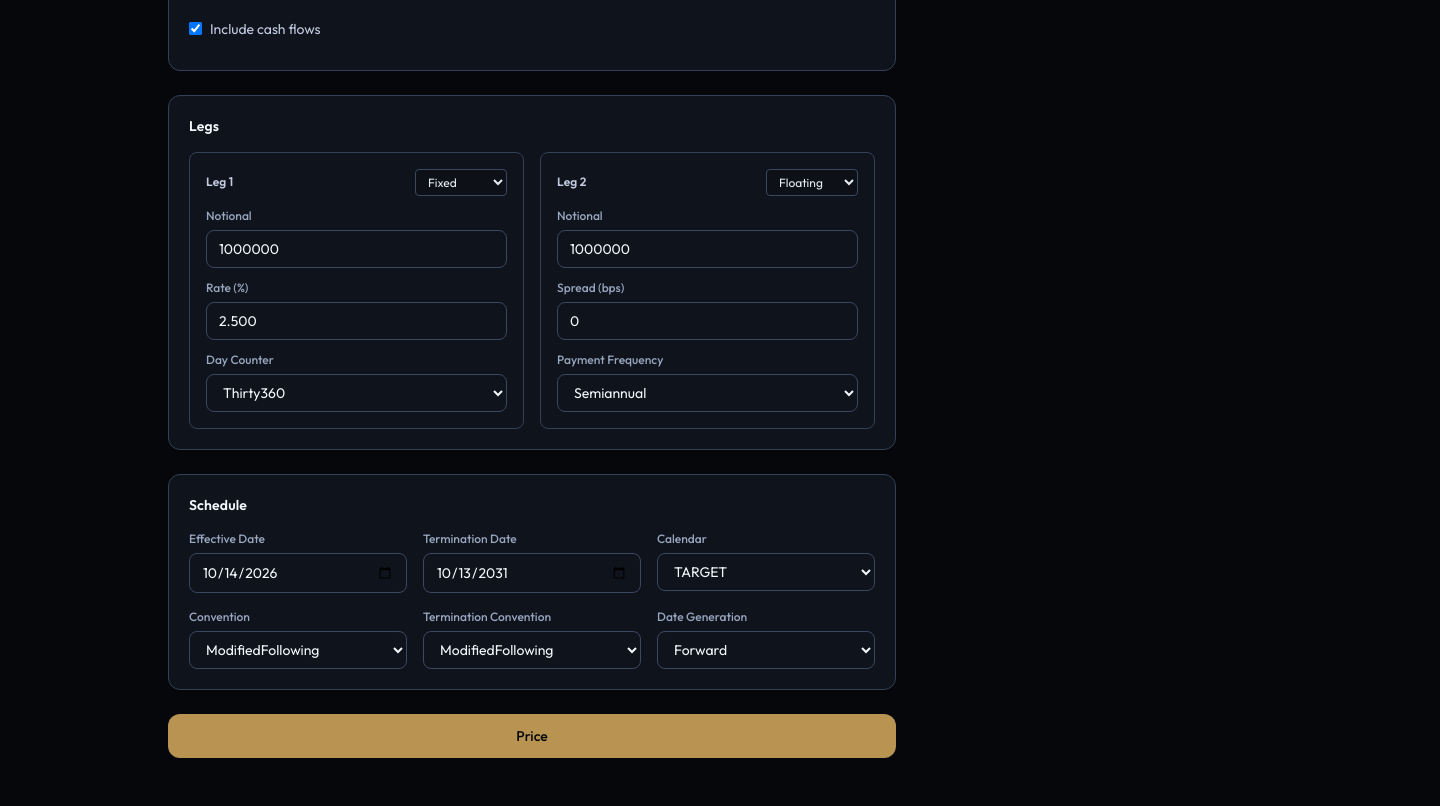
IrSwap component — C1–C4 (adapter cutover) › C2: not_found error — PricingErrorCard rendered; no NPV panel
(page scrolled)
Click the button "Price": (532, 736) [168,714,896,758]
(page scrolled)
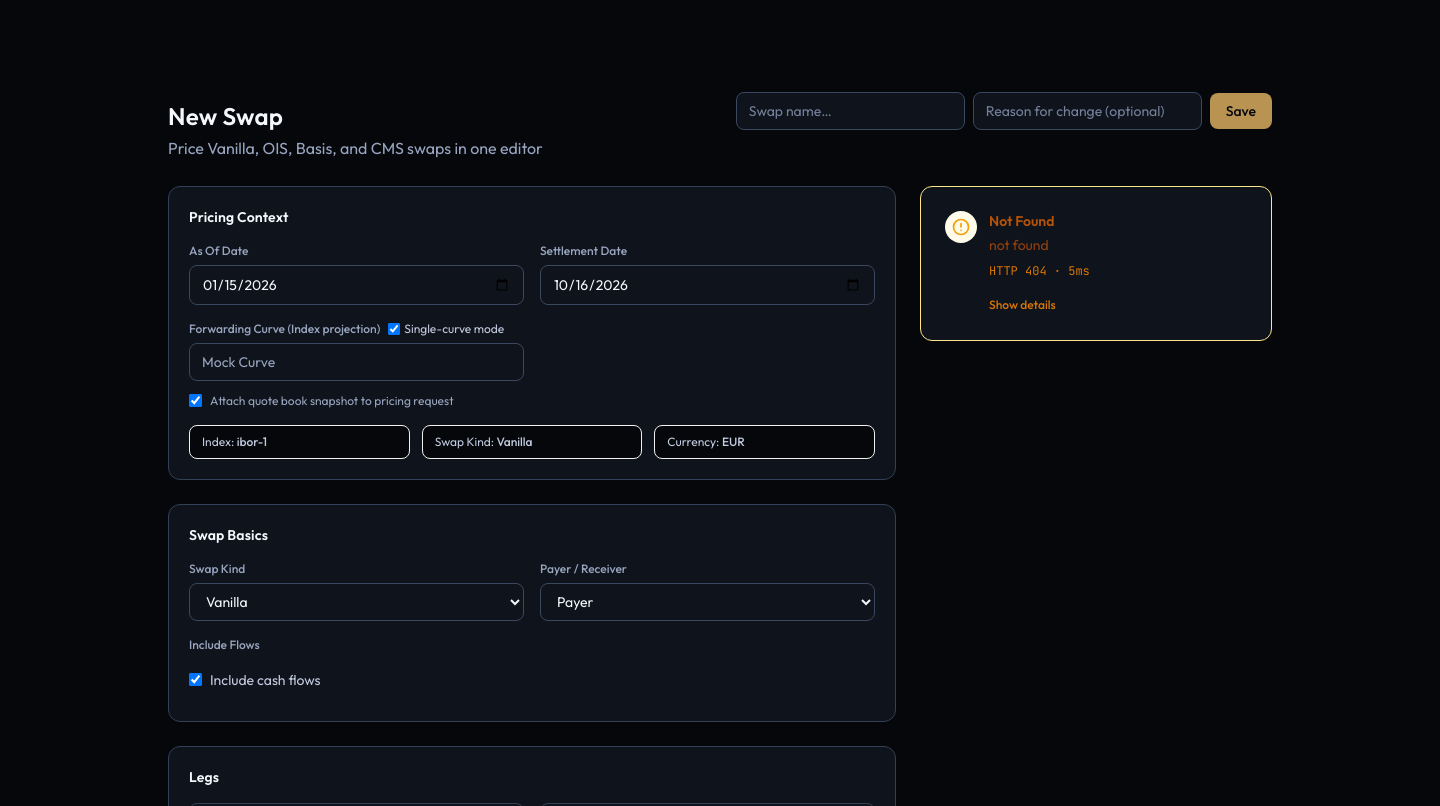
expect the text "Not Found" is shown: met, box [989,212,1054,230]
